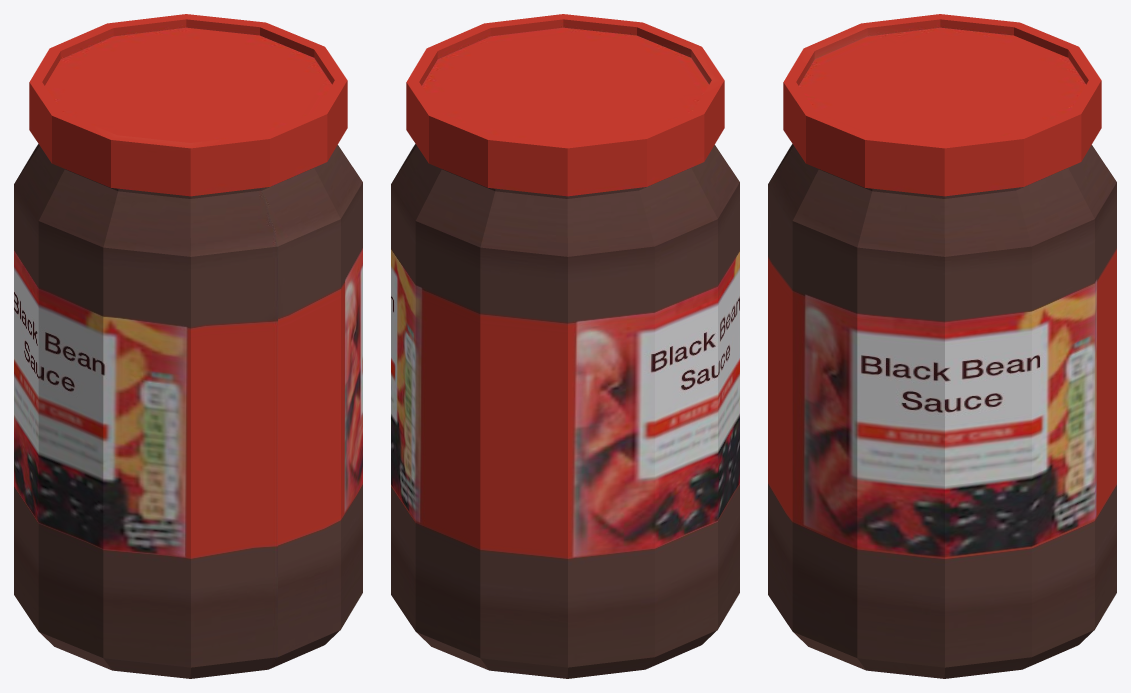
Rendered from sauceblackbean.fbx.
The picture shows the model from 3 angles, left to right: view 1: azimuth 30°, elevation 25°; view 2: azimuth 150°, elevation 25°; view 3: azimuth 270°, elevation 25°; orthographic projection.
Visible parts, largest first — view 1: MustardJar.031; view 2: MustardJar.031; view 3: MustardJar.031.
Boxes of the visible parts, x1=… form: MustardJar.031: x1=14, y1=14, x2=362, y2=678; MustardJar.031: x1=391, y1=14, x2=739, y2=678; MustardJar.031: x1=768, y1=14, x2=1116, y2=678.
Size of the model in its own units: 25.62 by 43.08 by 25.62.
